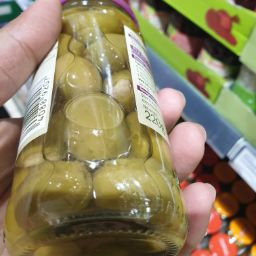Olives: (66, 6, 132, 180), (58, 89, 131, 165), (91, 149, 171, 215), (22, 159, 89, 215), (58, 50, 105, 92), (59, 55, 105, 95), (69, 17, 108, 63)
